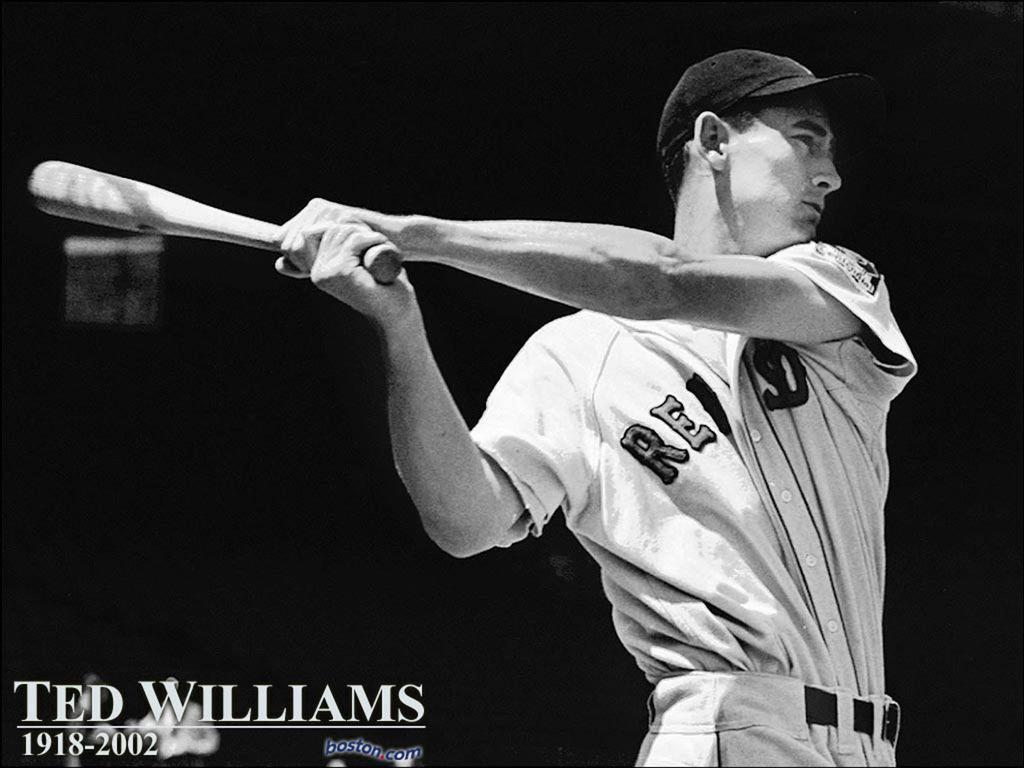face: (737, 79, 845, 243)
